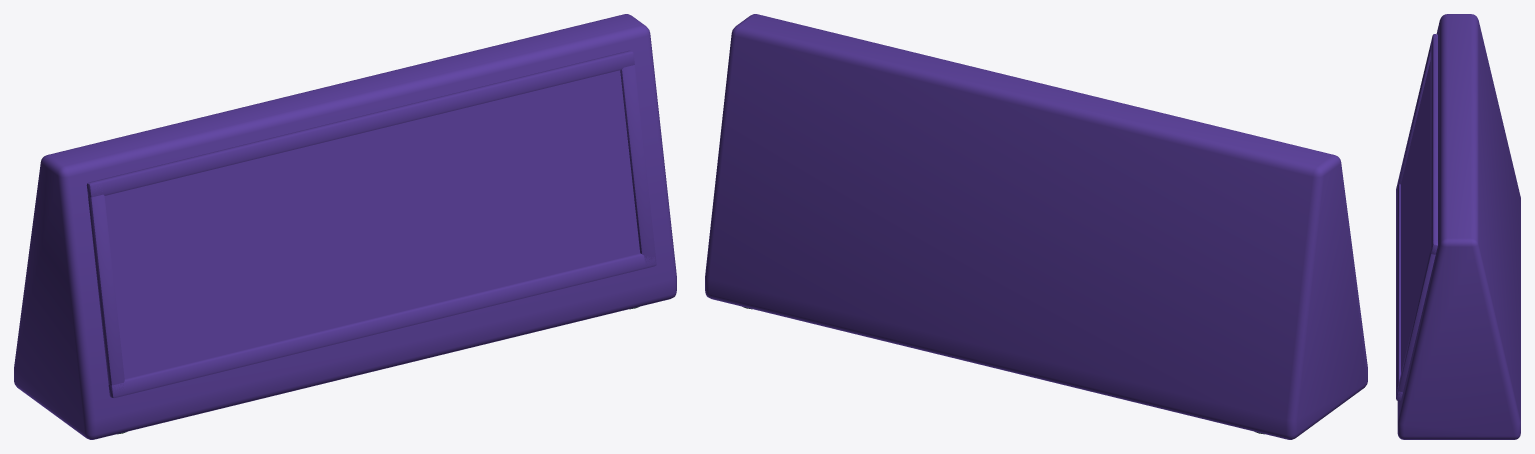
Rendered from busy-sign.glb.
3 views of the same model, side by side, from view 1: azimuth 30°, elevation 25°; view 2: azimuth 150°, elevation 25°; view 3: azimuth 270°, elevation 25° (orthographic). The views are drawn at different scales.
Parts seen in each view (by area): view 1: lettering, busy-sign-stand; view 2: busy-sign-stand; view 3: busy-sign-stand, lettering.
Boxes of the visible parts, box(x1,y1,x2,y2) form: lettering: box(104, 70, 639, 378); busy-sign-stand: box(14, 14, 676, 439); busy-sign-stand: box(705, 14, 1367, 439); busy-sign-stand: box(1396, 14, 1520, 439); lettering: box(1401, 60, 1430, 372).
Bounding box in the file's own units: 0.33 × 0.1365 × 0.0759.
